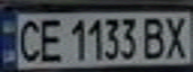1: (84, 16, 106, 61), (66, 16, 87, 61)
3: (118, 15, 142, 61), (103, 16, 124, 61)
B: (139, 13, 172, 60)
C: (12, 16, 45, 64)
E: (33, 15, 66, 63)
X: (160, 12, 193, 60)
